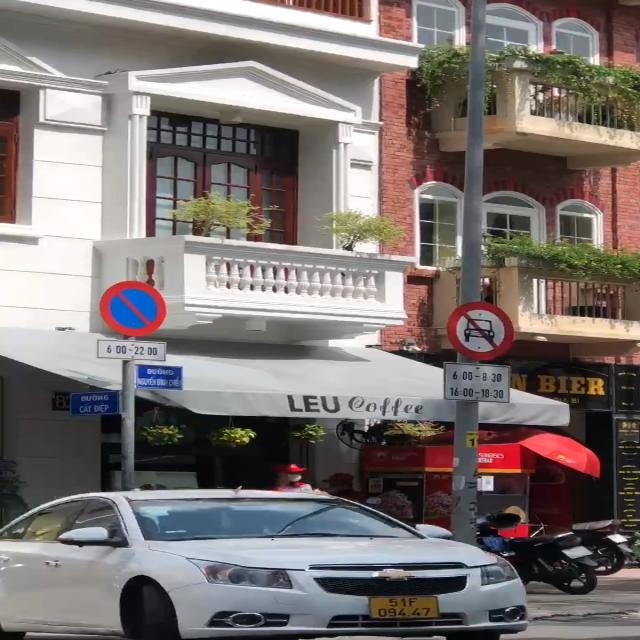Bien bao cam do xe: (94, 278, 174, 338)
Bien bao cam xe oto: (445, 297, 518, 360)
